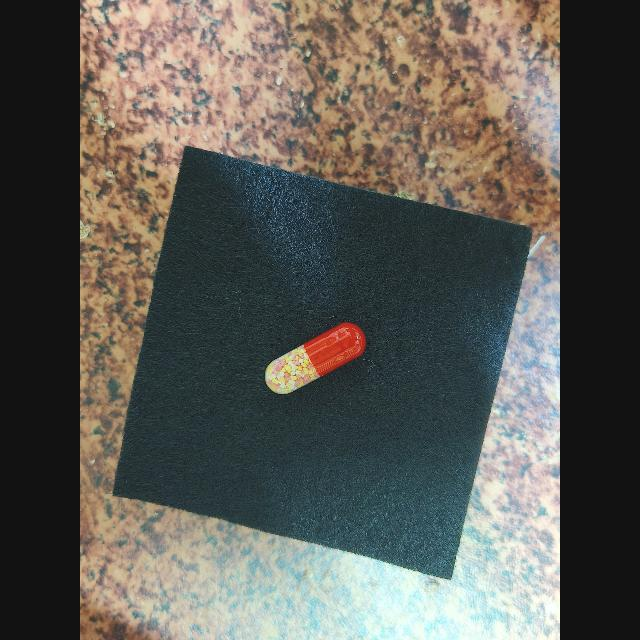Intact Capsule: (265, 322, 366, 394)
